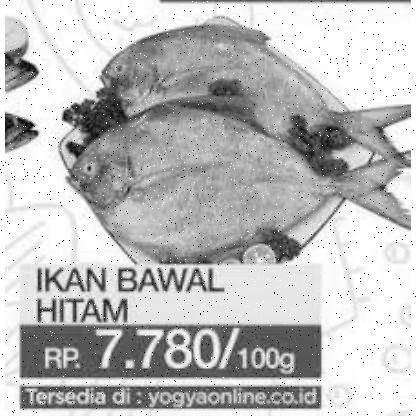ikan-pacu: (60, 102, 354, 252), (100, 26, 338, 130)
